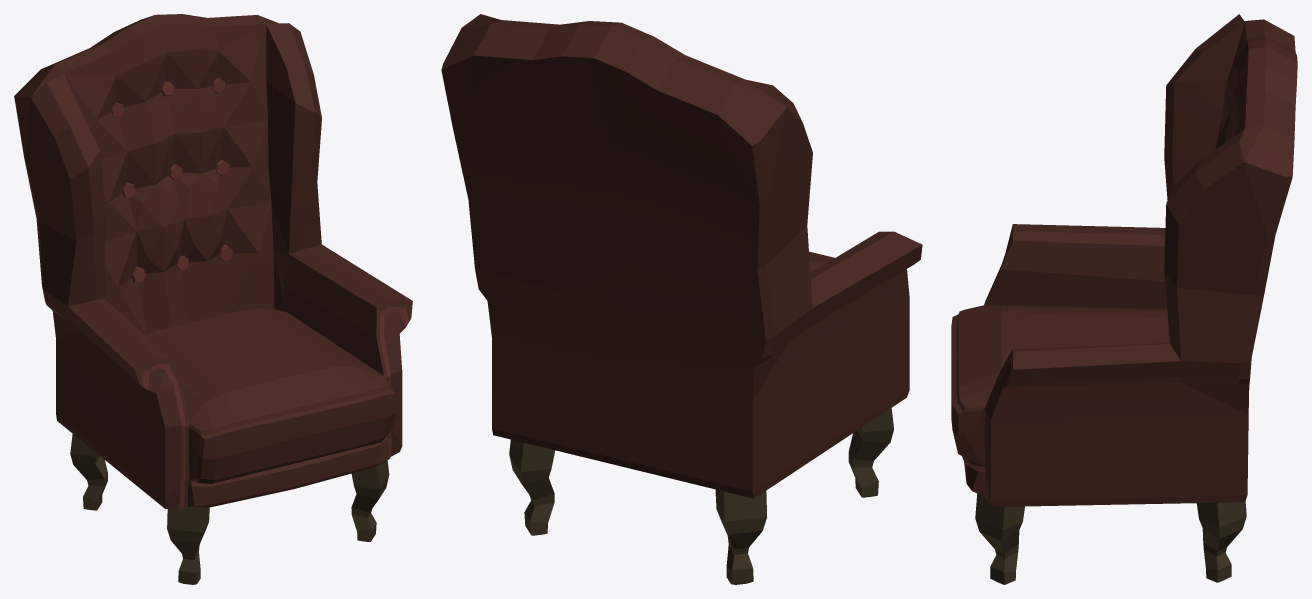
Rendered from SM_Prop_OfficeChair_01.obj.
The picture shows the model from 3 angles, left to right: view 1: azimuth 30°, elevation 25°; view 2: azimuth 150°, elevation 25°; view 3: azimuth 270°, elevation 25°; orthographic projection. The views are drawn at different scales.
Visible parts, largest first — view 1: SM_Prop_OfficeChair_01_0; view 2: SM_Prop_OfficeChair_01_0; view 3: SM_Prop_OfficeChair_01_0.
Boxes of the visible parts, left/top/right/bottom form: SM_Prop_OfficeChair_01_0: left=14, top=14, right=412, bottom=584; SM_Prop_OfficeChair_01_0: left=441, top=14, right=922, bottom=584; SM_Prop_OfficeChair_01_0: left=951, top=14, right=1297, bottom=584.
Size of the model in its own units: 0.9278 by 1.45 by 0.9319.
Materials: 1 (1 with a texture image).
